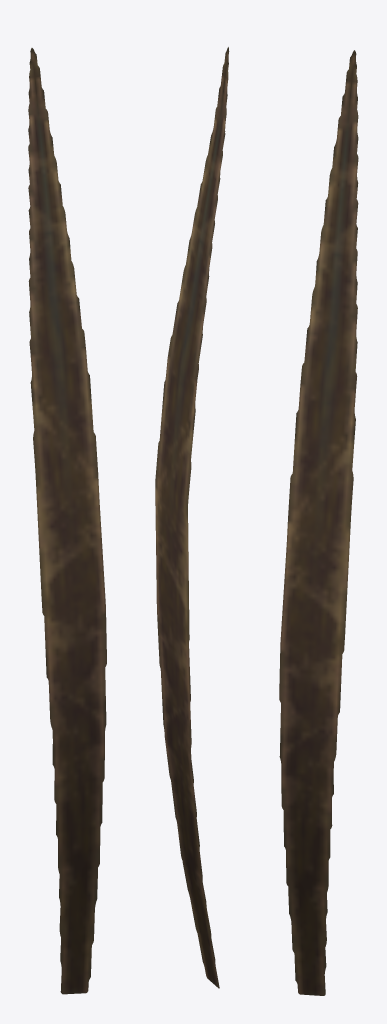
Rendered from SM_grass_blade_01.fbx.
The picture shows the model from 3 angles, left to right: view 1: azimuth 90°, elevation 25°; view 2: azimuth 210°, elevation 25°; view 3: azimuth 270°, elevation 25°; orthographic projection.
Visible parts, largest first — view 1: SM_grass_blade_01; view 2: SM_grass_blade_01; view 3: SM_grass_blade_01.
Boxes of the visible parts, left/top/right/bottom form: SM_grass_blade_01: left=28, top=48, right=106, bottom=994; SM_grass_blade_01: left=155, top=47, right=229, bottom=988; SM_grass_blade_01: left=279, top=50, right=358, bottom=995.
Bounding box in the file's own units: 1.29 × 2.42 × 25.58.
